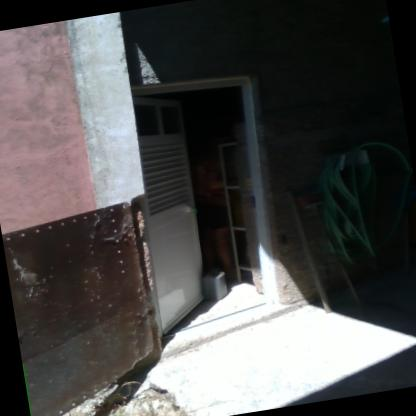semi: (113, 58, 301, 348)
